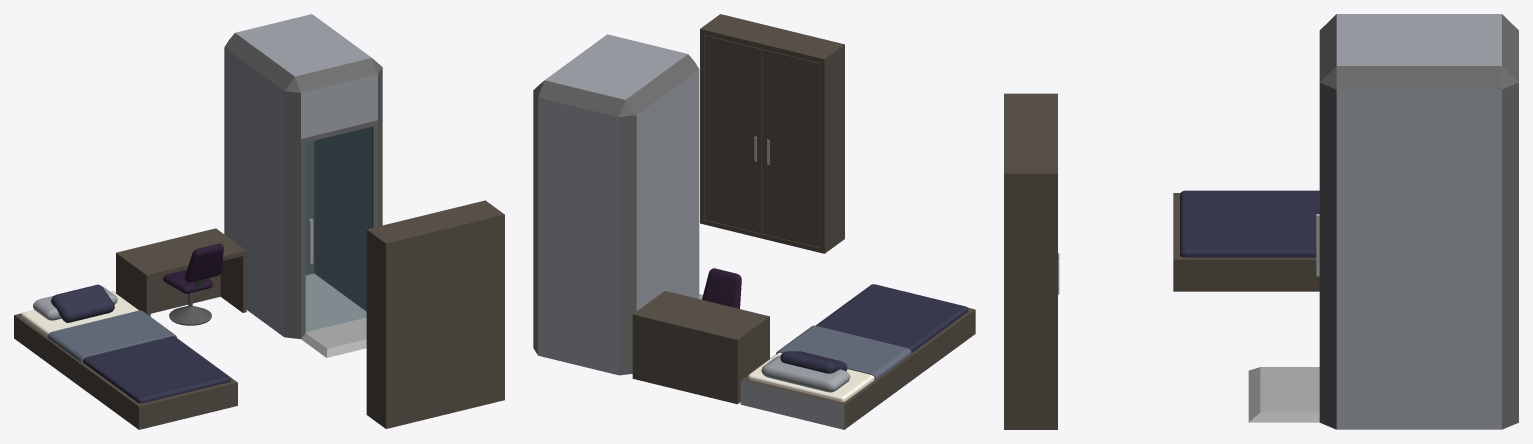
File: Quarters_Dressing.fbx
The picture shows the model from 3 angles, left to right: view 1: azimuth 30°, elevation 25°; view 2: azimuth 150°, elevation 25°; view 3: azimuth 270°, elevation 25°; orthographic projection. The views are drawn at different scales.
Parts seen in each view (by area): view 1: Quarters_Dressing; view 2: Quarters_Dressing; view 3: Quarters_Dressing.
Part boxes in pixels (box(x1,y1,x2,y2)): Quarters_Dressing: box(14, 14, 504, 429); Quarters_Dressing: box(533, 14, 975, 429); Quarters_Dressing: box(1004, 14, 1518, 429).
Bounding box in the file's own units: 13.66 × 11.06 × 14.48.
